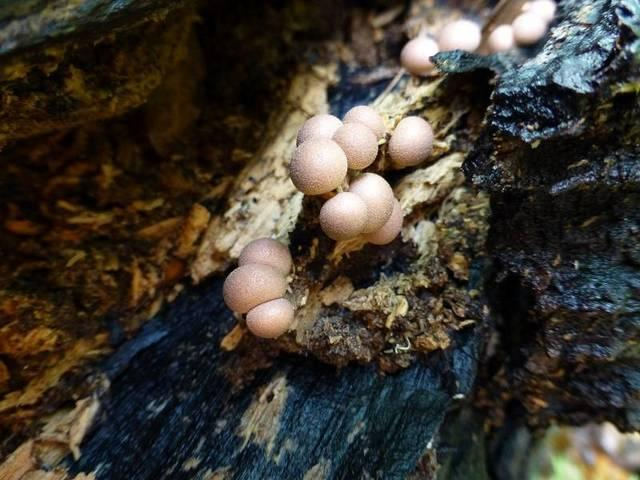Non-edible Mushroom: (221, 103, 435, 339), (288, 103, 434, 248), (221, 237, 296, 339), (288, 136, 348, 196), (221, 262, 286, 314), (386, 114, 434, 169), (244, 296, 295, 339)
